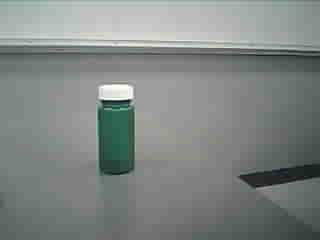Bottle C: (87, 77, 151, 184)
